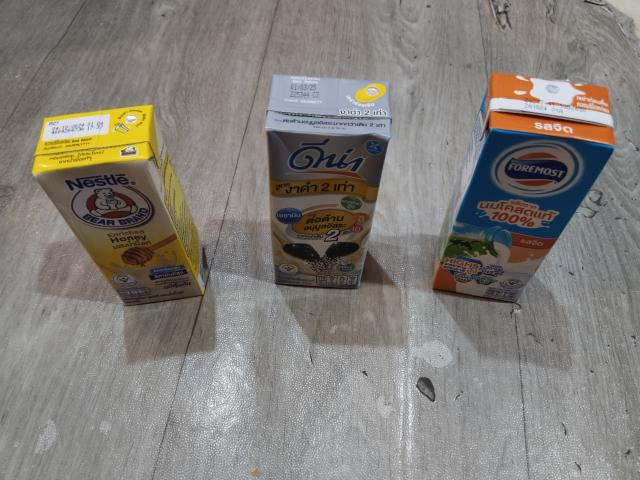drink_box: (425, 67, 623, 311), (21, 97, 214, 313), (264, 69, 391, 298)
